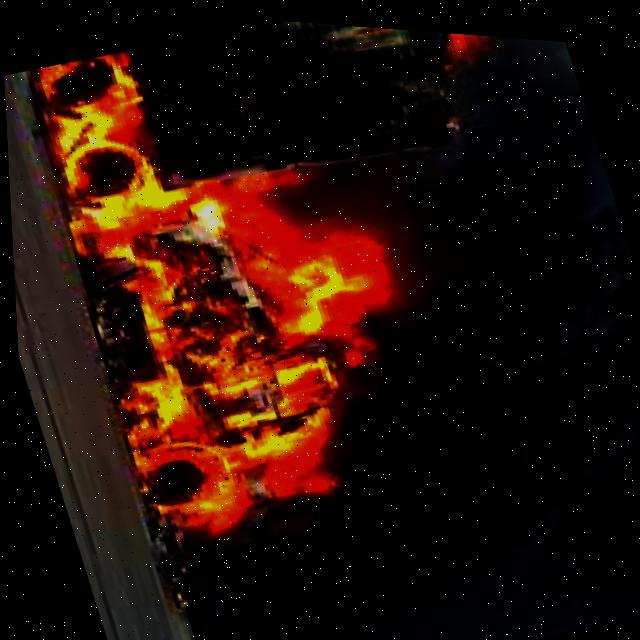Fire: (28, 2, 449, 548)
Smoke: (248, 14, 640, 611), (160, 396, 640, 640)
